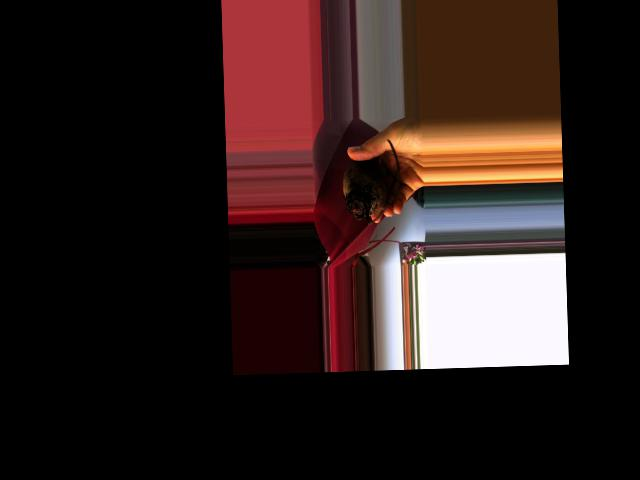beet: (341, 139, 401, 226)
